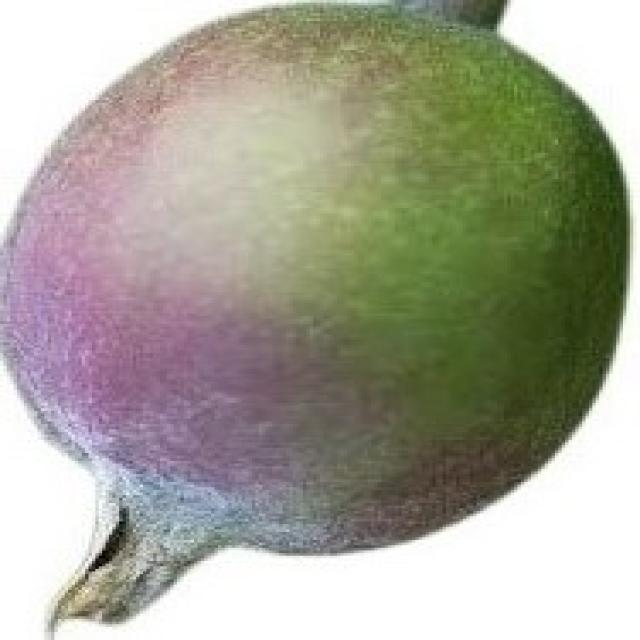20-_ripeness: (3, 5, 640, 640)
